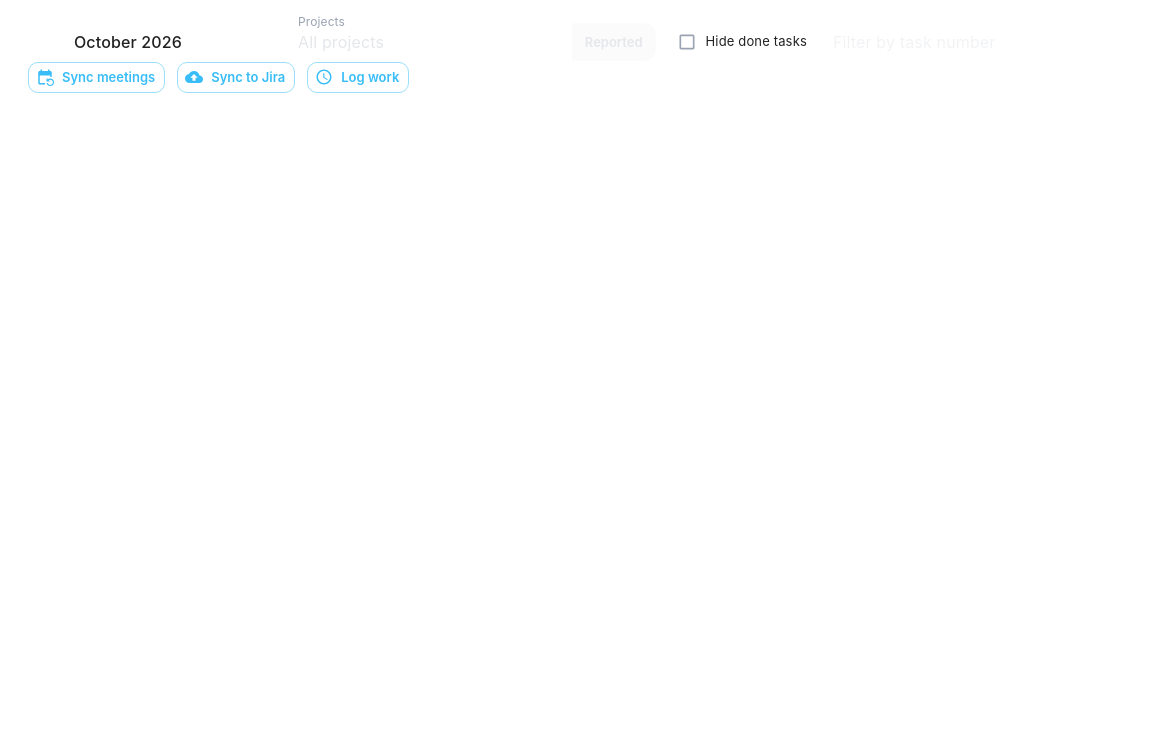
TaskGridView Sync meetings button › shows an error toast and keeps the popover open when the sync fails
Click the button "Sync meetings" at coordinates (97, 77), box [28,62,165,93]
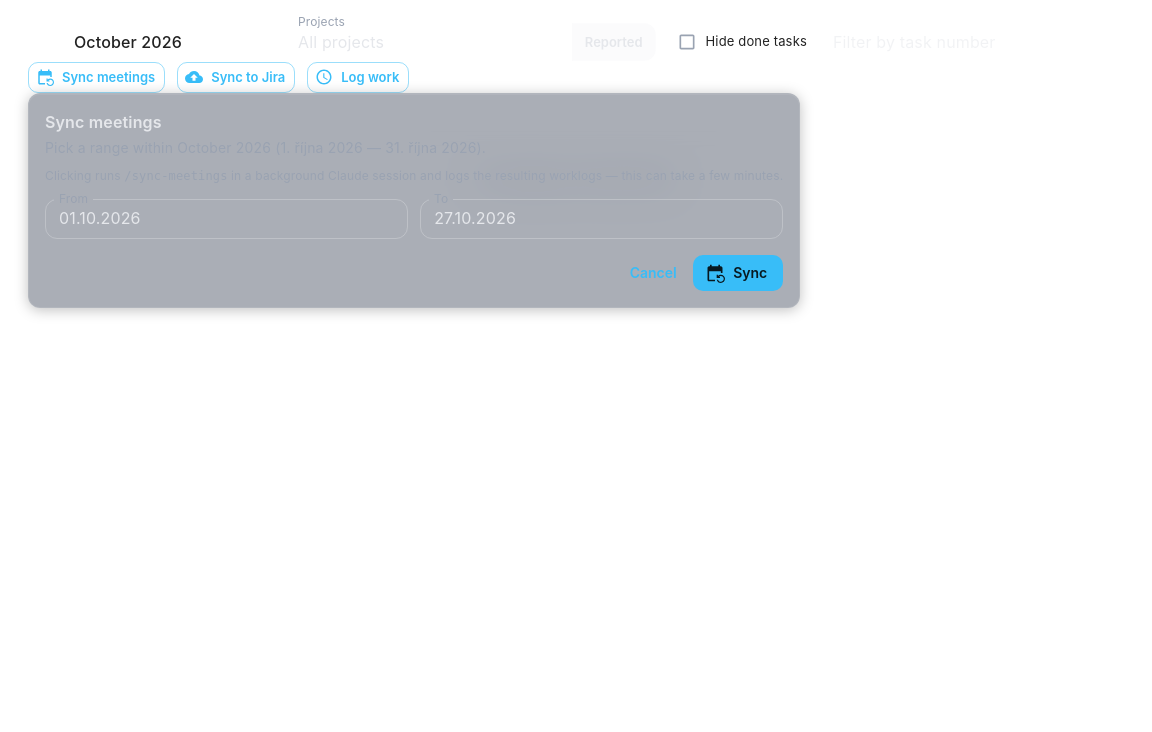
Click the button "Sync" at coordinates (738, 273), box [693,255,783,291]
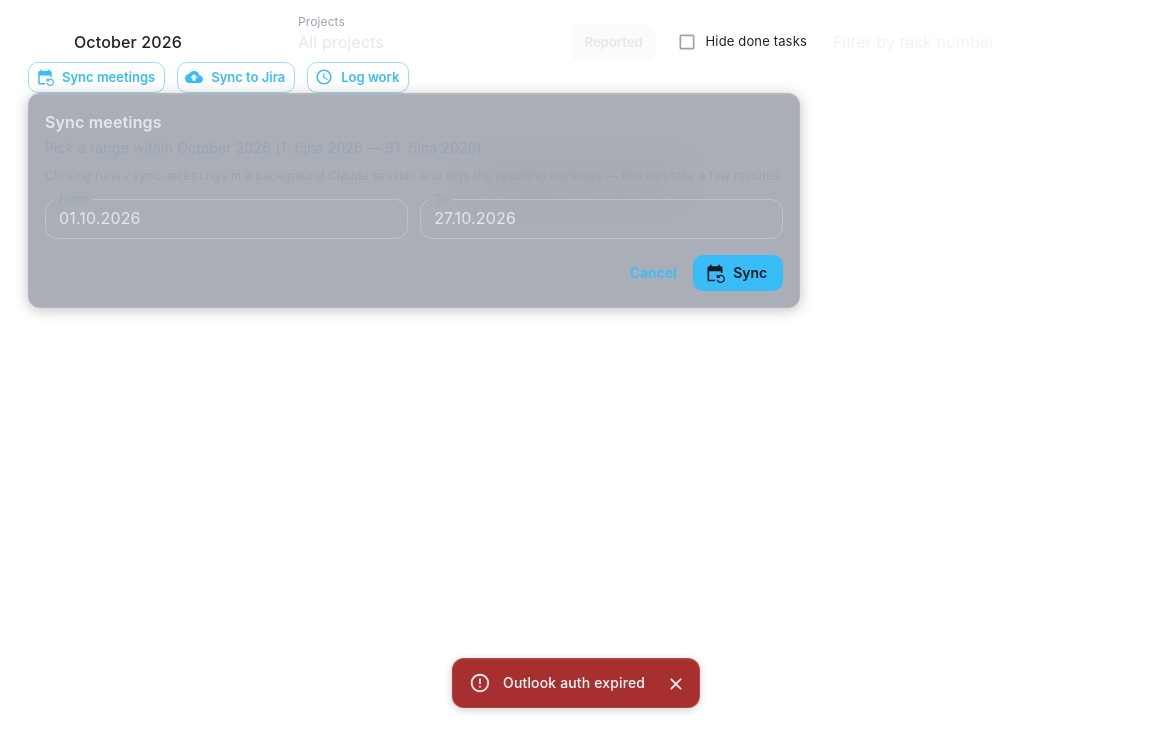
Expected: the button "Sync" is shown, [693,255,783,291]
Expected: the text "Outlook auth expired" is shown, [503,674,645,691]
